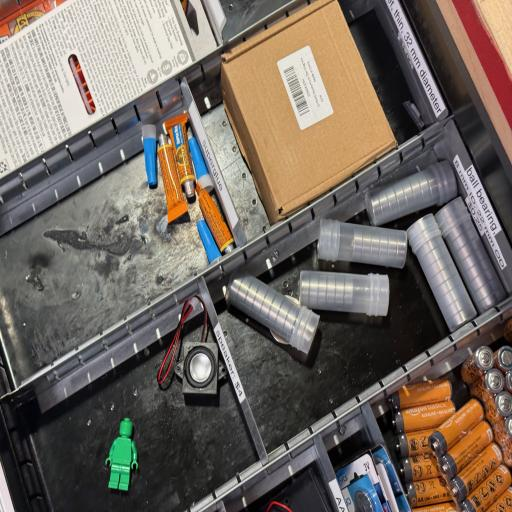Lego-Dude: (105, 418, 138, 491)
